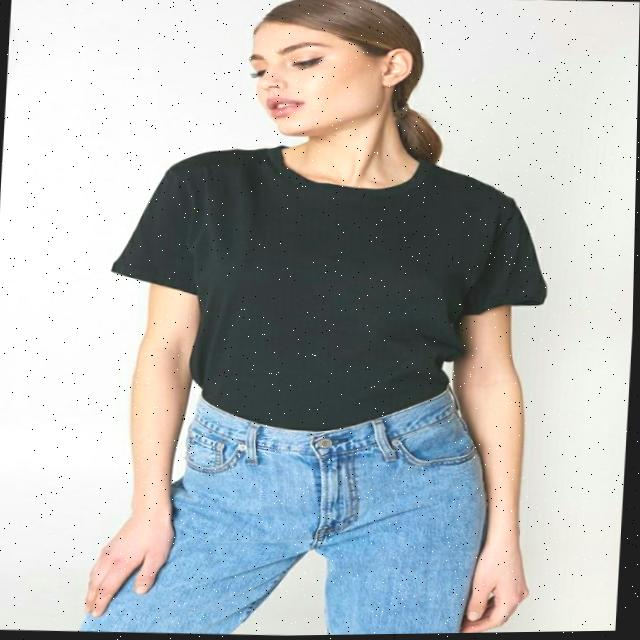Upper-Body: (113, 147, 546, 433)
